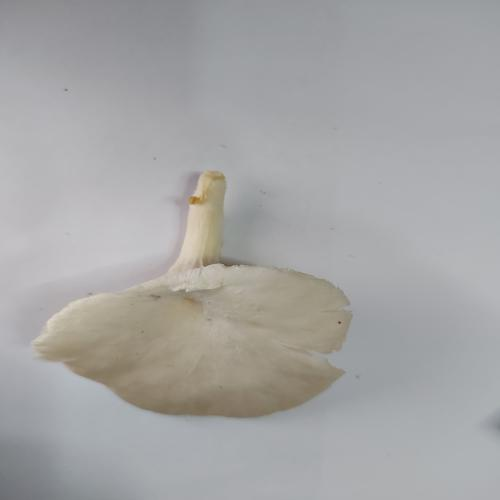Oyster Mushroom: (31, 169, 354, 418)
